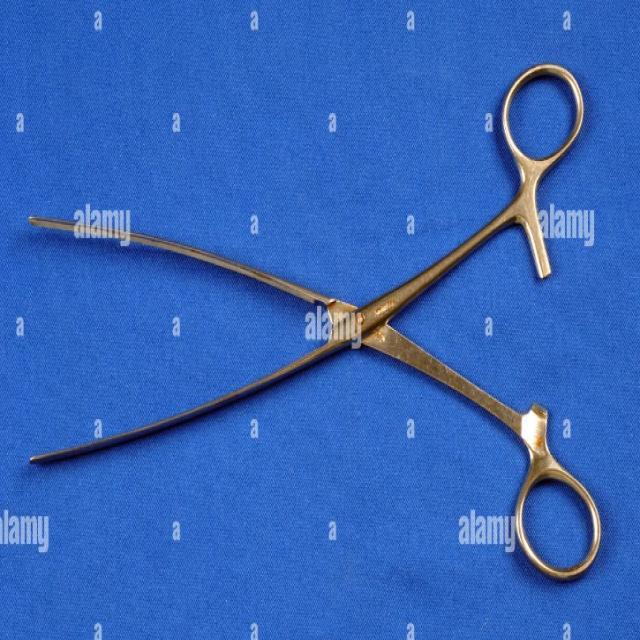Doyel Instestinal Forceps: (25, 57, 608, 590)
